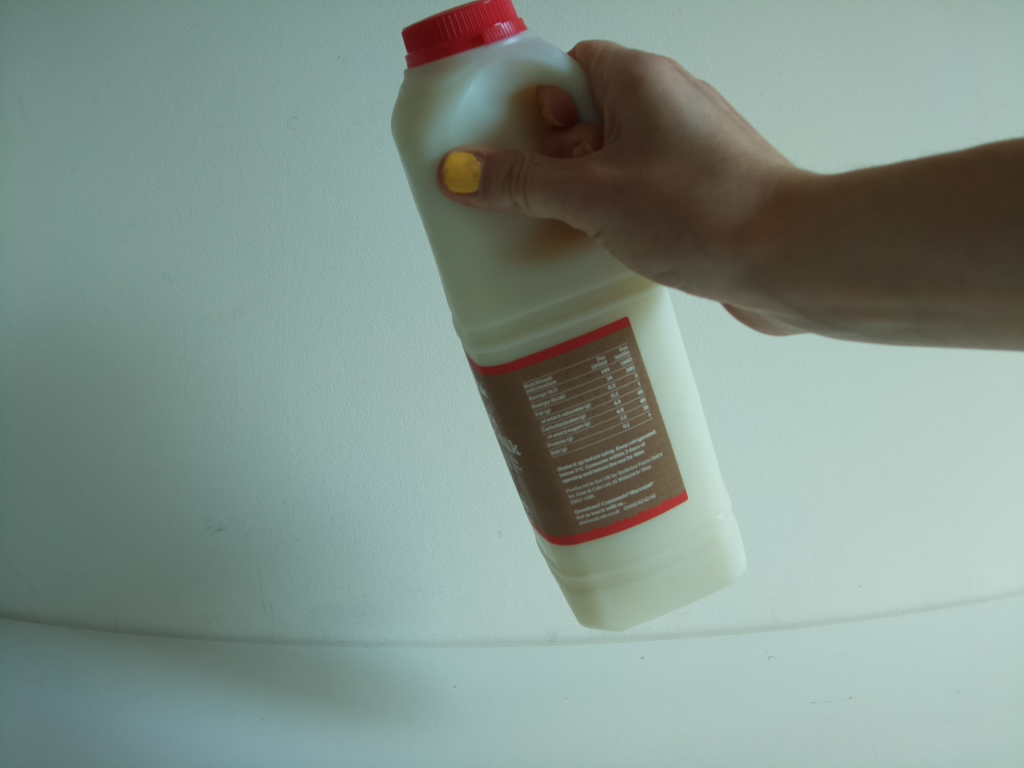milk: (389, 1, 749, 645)
